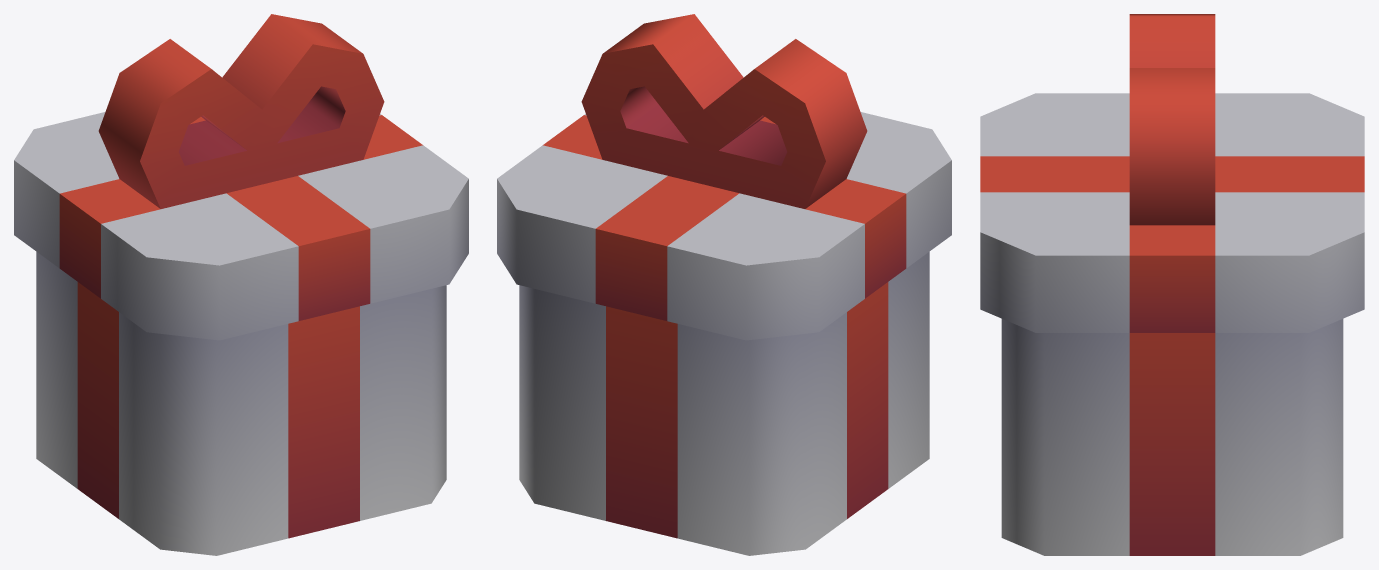
Rendered from present-a-cube.glb.
3 renders of one model, left to right at view 1: azimuth 30°, elevation 25°; view 2: azimuth 150°, elevation 25°; view 3: azimuth 270°, elevation 25°, orthographic. The views are drawn at different scales.
Parts seen in each view (by area): view 1: lid, present-a-cube; view 2: lid, present-a-cube; view 3: lid, present-a-cube.
Part boxes in pixels (x1,y1,x2,y2): lid: (14,14,468,340); present-a-cube: (36,252,446,555); lid: (497,14,951,340); present-a-cube: (519,252,929,555); lid: (980,14,1364,332); present-a-cube: (1001,319,1343,555).
Size of the model in its own units: 0.45 by 0.5707 by 0.45.
